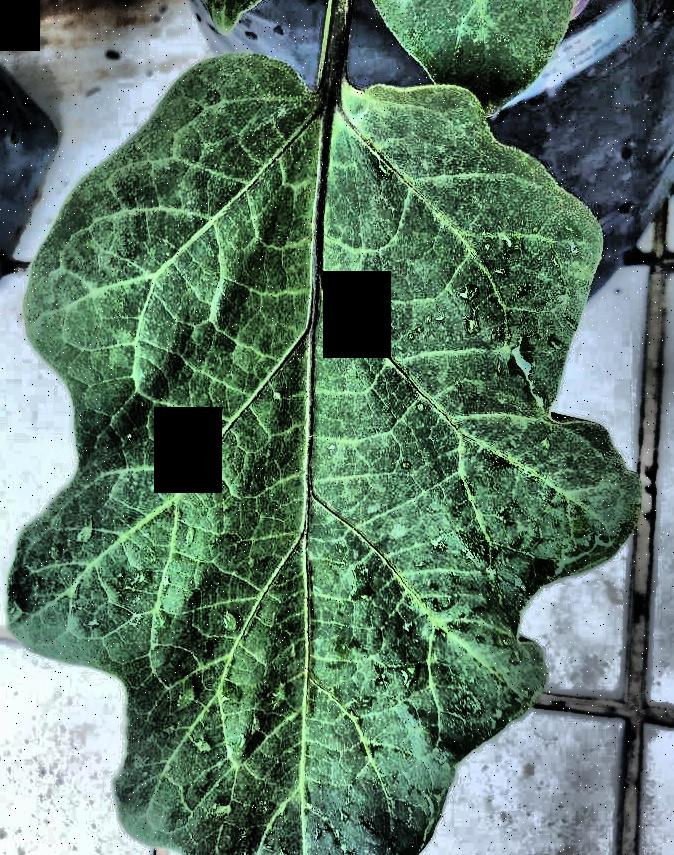HEALTHY: (9, 0, 674, 632)
